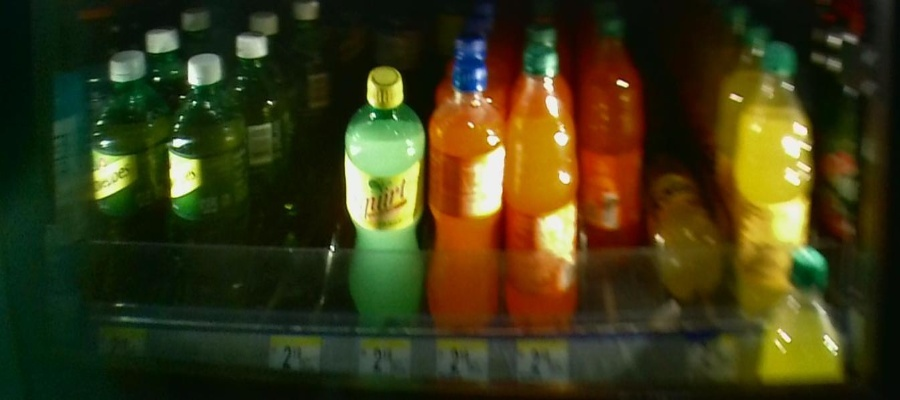bottle: (340, 66, 426, 337), (732, 42, 810, 324), (507, 43, 580, 341), (169, 54, 251, 319), (430, 56, 503, 341), (92, 52, 165, 311), (582, 24, 644, 266), (657, 180, 723, 320)
